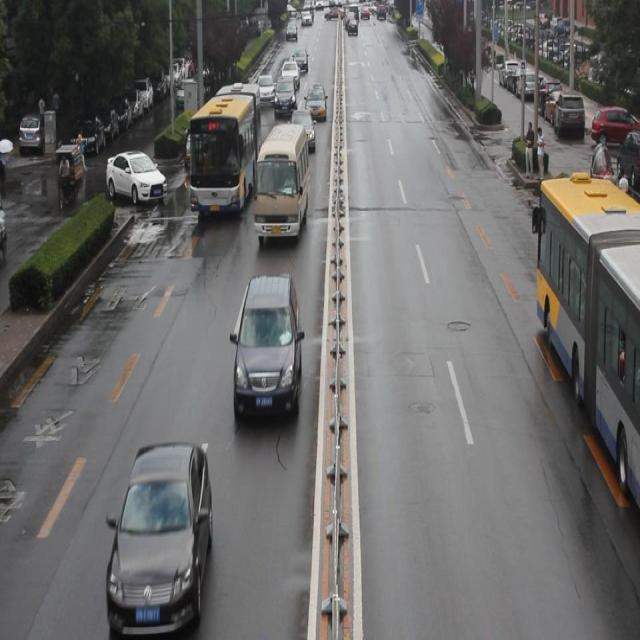car: (104, 448, 206, 626), (234, 274, 300, 422), (106, 150, 169, 208), (183, 124, 216, 174), (290, 109, 315, 153), (274, 74, 296, 119), (305, 85, 326, 119), (257, 73, 276, 110)
truck: (257, 124, 306, 242)
van: (531, 183, 640, 519), (189, 85, 262, 216)
